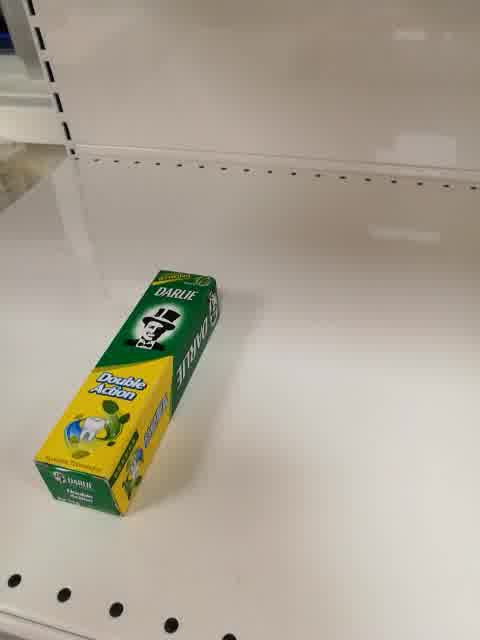toothpaste: (33, 270, 220, 520)
